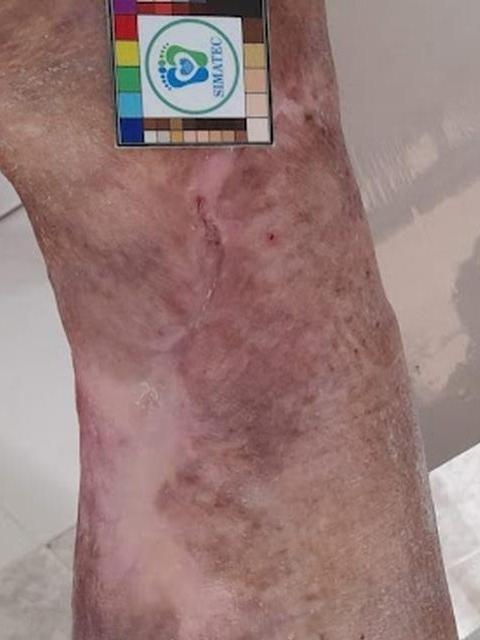wound: (192, 187, 225, 277)
